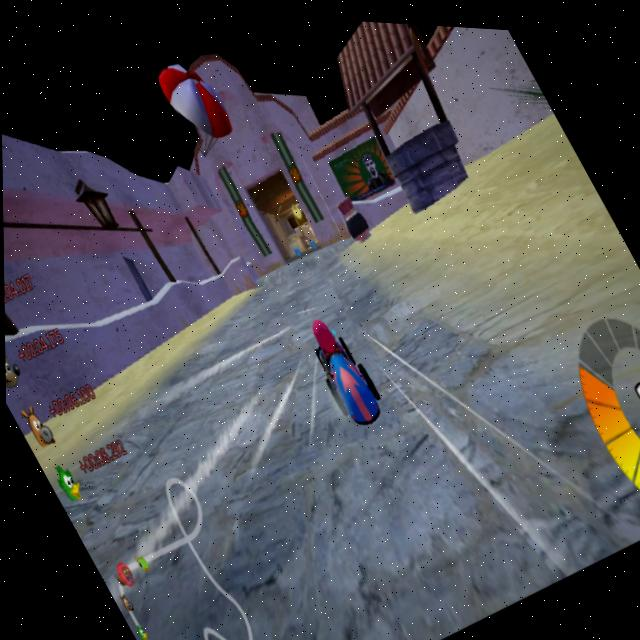bonus: (305, 229, 323, 250), (291, 240, 304, 255)
player_kart: (288, 301, 391, 433)
